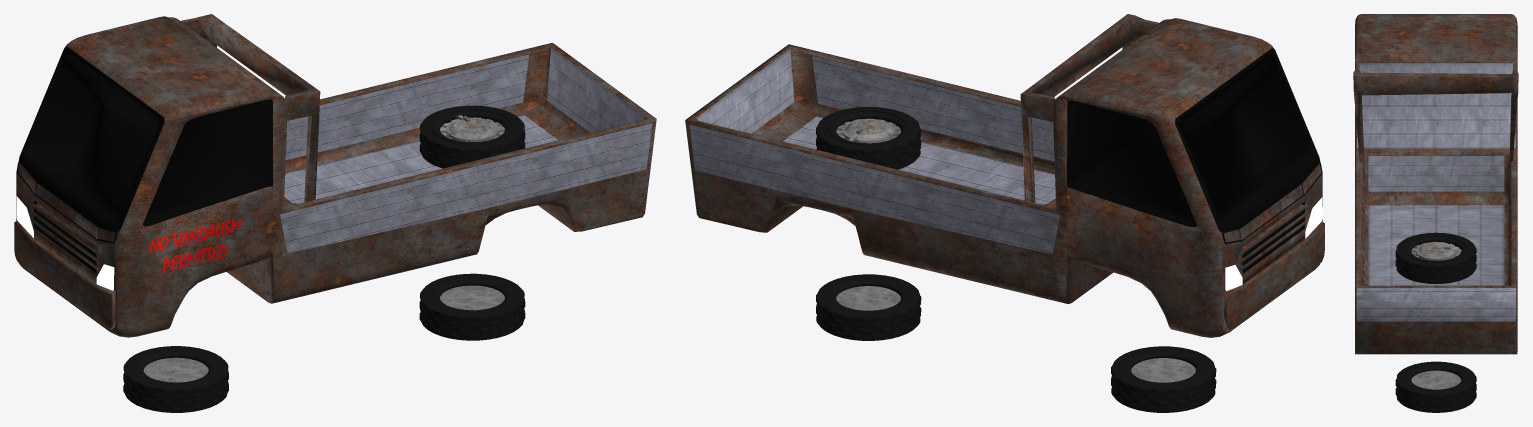
The model's file is toyota_dyna_compressed.glb.
3 renders of one model, left to right at view 1: azimuth 30°, elevation 25°; view 2: azimuth 150°, elevation 25°; view 3: azimuth 270°, elevation 25°, orthographic. The views are drawn at different scales.
Visible parts, largest first — view 1: Cube, wheel.002, wheel, wheel.003; view 2: Cube, wheel, wheel.002, wheel.003; view 3: Cube, wheel.002, wheel.003.
Part boxes in pixels (x1,y1,x2,y2): Cube: (14,14,656,337); wheel.002: (419,273,525,340); wheel: (123,346,228,412); wheel.003: (419,105,525,168); Cube: (685,14,1324,337); wheel: (1111,346,1216,412); wheel.002: (816,274,921,340); wheel.003: (816,107,921,169); Cube: (1353,14,1518,354); wheel.002: (1395,361,1476,412); wheel.003: (1395,232,1476,283).
Bounding box in the file's own units: 5.01 × 2.95 × 1.73.
Materials: 9 (4 with a texture image).
